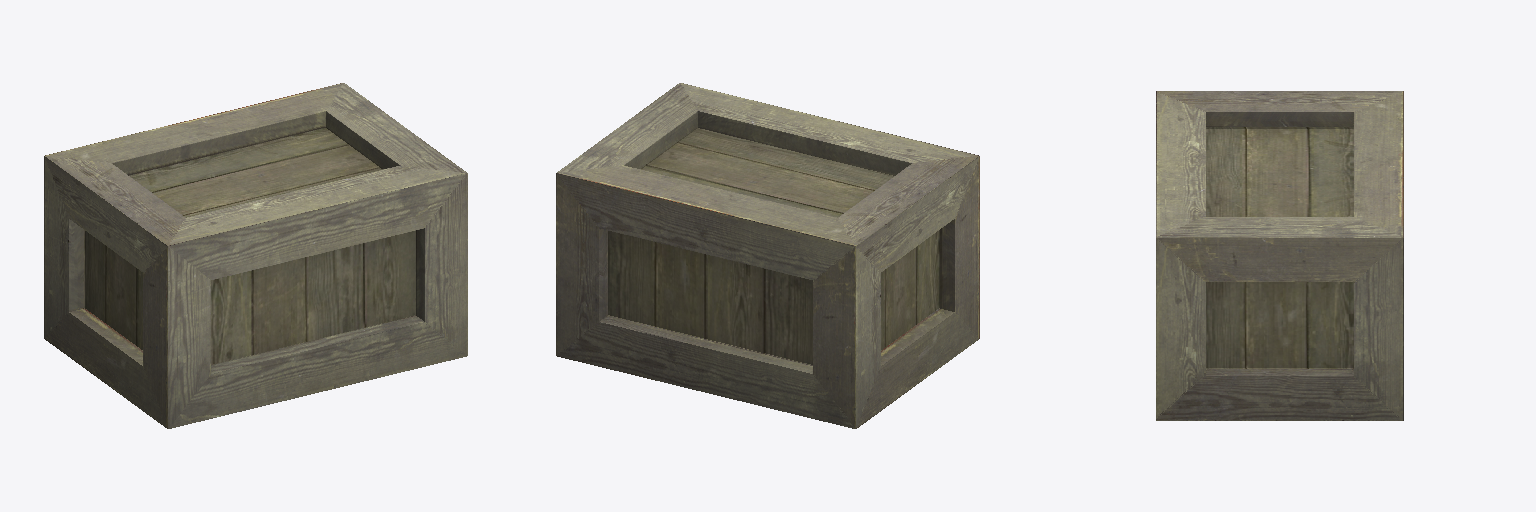
The picture shows the model from 3 angles: view 1: azimuth 30°, elevation 25°; view 2: azimuth 150°, elevation 25°; view 3: azimuth 270°, elevation 25°; orthographic projection.
Visible parts, largest first — view 1: pCube3; view 2: pCube3; view 3: pCube3.
Boxes of the visible parts, x1,y1,x2,y2 form: pCube3: [44, 83, 467, 428]; pCube3: [556, 83, 979, 428]; pCube3: [1156, 91, 1403, 420].
Size of the model in its own units: 1.4 by 0.8177 by 1.
Materials: 1 (1 with a texture image).